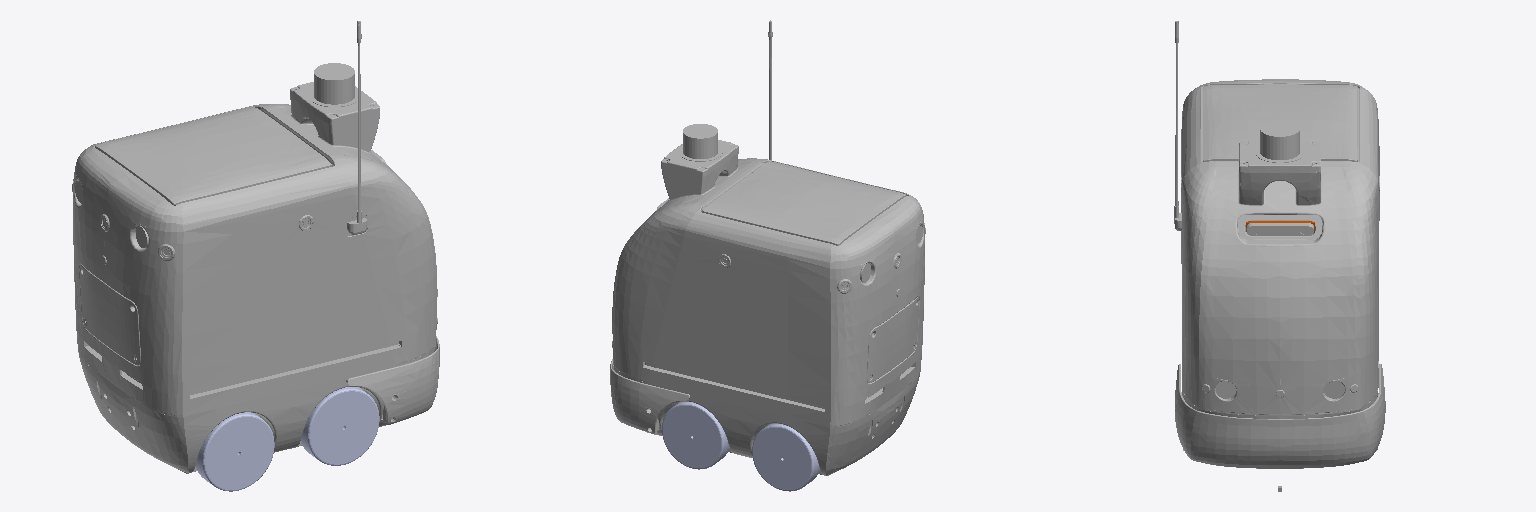
The robot description file, URDF, robot "TARS5_URDF":
<?xml version="1.0" encoding="utf-8"?>
<!-- This URDF was automatically created by SolidWorks to URDF Exporter! Originally created by [author] ([email redacted]) 
     Commit Version: 1.6.0-4-g7f85cfe  Build Version: 1.6.7995.38578
     For more information, please see http://wiki.ros.org/sw_urdf_exporter -->
<robot
  name="TARS5_URDF">
  <link
    name="base_link">
    <inertial>
      <origin
        xyz="-0.0319297701447891 7.49799744740876E-05 0.19294099047024"
        rpy="0 0 0" />
      <mass
        value="95" />
      <inertia
        ixx="2.79574737683864"
        ixy="-0.000333462074481655"
        ixz="0.248503881752532"
        iyy="4.97249537454924"
        iyz="-0.000247280056359223"
        izz="5.92933182619561" />
    </inertial>
    <visual>
      <origin
        xyz="0 0 0"
        rpy="0 0 0" />
      <geometry>
        <mesh
          filename="package://TARS5_URDF/meshes/base_link.STL" />
      </geometry>
      <material
        name="">
        <color
          rgba="0.752941176470588 0.752941176470588 0.752941176470588 1" />
      </material>
    </visual>
    <collision>
      <origin
        xyz="0 0 0"
        rpy="0 0 0" />
      <geometry>
        <mesh
          filename="package://TARS5_URDF/meshes/base_link.STL" />
      </geometry>
    </collision>
  </link>
  <link
    name="link_fl">
    <inertial>
      <origin
        xyz="0 -0.0275 0"
        rpy="0 0 0" />
      <mass
        value="1.80419482299145" />
      <inertia
        ixx="0.00518473415115212"
        ixy="-3.71331798375396E-20"
        ixz="5.43368413105831E-19"
        iyy="0.00946593125082104"
        iyz="-2.88567079174839E-18"
        izz="0.00518473415115212" />
    </inertial>
    <visual>
      <origin
        xyz="0 0 0"
        rpy="0 0 0" />
      <geometry>
        <mesh
          filename="package://TARS5_URDF/meshes/link_fl.STL" />
      </geometry>
      <material
        name="">
        <color
          rgba="0.792156862745098 0.819607843137255 0.933333333333333 1" />
      </material>
    </visual>
    <collision>
      <origin
        xyz="0 0 0"
        rpy="0 0 0" />
      <geometry>
        <mesh
          filename="package://TARS5_URDF/meshes/link_fl.STL" />
      </geometry>
    </collision>
  </link>
  <joint
    name="joint_fl"
    type="continuous">
    <origin
      xyz="0.15044 0.24755 0.055551"
      rpy="0 0 0" />
    <parent
      link="base_link" />
    <child
      link="link_fl" />
    <axis
      xyz="0 1 0" />
    <limit
      effort="1"
      velocity="1.5" />
  </joint>
  <link
    name="link_bl">
    <inertial>
      <origin
        xyz="0 -0.0275 0"
        rpy="0 0 0" />
      <mass
        value="1.80419482299145" />
      <inertia
        ixx="0.00518473415115212"
        ixy="-9.68146390037796E-20"
        ixz="7.44914140213389E-20"
        iyy="0.00946593125082104"
        iyz="-3.30697682152431E-18"
        izz="0.00518473415115212" />
    </inertial>
    <visual>
      <origin
        xyz="0 0 0"
        rpy="0 0 0" />
      <geometry>
        <mesh
          filename="package://TARS5_URDF/meshes/link_bl.STL" />
      </geometry>
      <material
        name="">
        <color
          rgba="0.792156862745098 0.819607843137255 0.933333333333333 1" />
      </material>
    </visual>
    <collision>
      <origin
        xyz="0 0 0"
        rpy="0 0 0" />
      <geometry>
        <mesh
          filename="package://TARS5_URDF/meshes/link_bl.STL" />
      </geometry>
    </collision>
  </link>
  <joint
    name="joingt_bl"
    type="continuous">
    <origin
      xyz="-0.14956 0.24755 0.055551"
      rpy="0 0 0" />
    <parent
      link="base_link" />
    <child
      link="link_bl" />
    <axis
      xyz="0 1 0" />
    <limit
      effort="1"
      velocity="1.5" />
  </joint>
  <link
    name="link_br">
    <inertial>
      <origin
        xyz="0 0.0275 0"
        rpy="0 0 0" />
      <mass
        value="1.80419482299145" />
      <inertia
        ixx="0.00518473415115212"
        ixy="3.91111150201269E-19"
        ixz="4.64489917458846E-19"
        iyy="0.00946593125082104"
        iyz="3.11347779802501E-18"
        izz="0.00518473415115212" />
    </inertial>
    <visual>
      <origin
        xyz="0 0 0"
        rpy="0 0 0" />
      <geometry>
        <mesh
          filename="package://TARS5_URDF/meshes/link_br.STL" />
      </geometry>
      <material
        name="">
        <color
          rgba="0.792156862745098 0.819607843137255 0.933333333333333 1" />
      </material>
    </visual>
    <collision>
      <origin
        xyz="0 0 0"
        rpy="0 0 0" />
      <geometry>
        <mesh
          filename="package://TARS5_URDF/meshes/link_br.STL" />
      </geometry>
    </collision>
  </link>
  <joint
    name="joint_br"
    type="continuous">
    <origin
      xyz="-0.14956 -0.24745 0.055551"
      rpy="0 0 0" />
    <parent
      link="base_link" />
    <child
      link="link_br" />
    <axis
      xyz="0 1 0" />
    <limit
      effort="1"
      velocity="1.5" />
  </joint>
  <link
    name="link_fr">
    <inertial>
      <origin
        xyz="0 0.0275 0"
        rpy="0 0 0" />
      <mass
        value="1.80419482299145" />
      <inertia
        ixx="0.00518473415115212"
        ixy="5.04117232506725E-19"
        ixz="5.47235241208503E-19"
        iyy="0.00946593125082104"
        iyz="2.51726763178231E-18"
        izz="0.00518473415115212" />
    </inertial>
    <visual>
      <origin
        xyz="0 0 0"
        rpy="0 0 0" />
      <geometry>
        <mesh
          filename="package://TARS5_URDF/meshes/link_fr.STL" />
      </geometry>
      <material
        name="">
        <color
          rgba="0.792156862745098 0.819607843137255 0.933333333333333 1" />
      </material>
    </visual>
    <collision>
      <origin
        xyz="0 0 0"
        rpy="0 0 0" />
      <geometry>
        <mesh
          filename="package://TARS5_URDF/meshes/link_fr.STL" />
      </geometry>
    </collision>
  </link>
  <joint
    name="joint_fr"
    type="continuous">
    <origin
      xyz="0.15044 -0.24745 0.055551"
      rpy="0 0 0" />
    <parent
      link="base_link" />
    <child
      link="link_fr" />
    <axis
      xyz="0 1 0" />
    <limit
      effort="1"
      velocity="1.5" />
  </joint>


 <!--Skid Steer Plugin ..............................................-->

 <gazebo>
  <plugin name="skid_steer_drive_controller" filename="libgazebo_ros_skid_steer_drive.so">
    <updateRate>100.0</updateRate>
    <robotNamespace>/</robotNamespace>
    <leftFrontJoint>joint_fl</leftFrontJoint>
    <rightFrontJoint>joint_fr</rightFrontJoint>
    <leftRearJoint>joingt_bl</leftRearJoint>
    <rightRearJoint>joint_br</rightRearJoint>
    <wheelSeparation>0.495</wheelSeparation>
    <wheelDiameter>0.205</wheelDiameter>
    <robotBaseFrame>base_link</robotBaseFrame>
    <torque>20</torque>
    <commandTopic>cmd_vel</commandTopic>
    <odometryTopic>odom</odometryTopic>
    <odometryFrame>odom</odometryFrame>
    <broadcastTF>true</broadcastTF>
    <covariance_x>0.001</covariance_x> <!-- 0.0001 -->
    <covariance_y>0.001</covariance_y> <!-- 0.0001 -->
    <covariance_yaw>0.01</covariance_yaw> <!-- 0.01 -->
  </plugin>
</gazebo>

<!-- Depth camera plugin .................................................................................. -->
  <joint name="depth_camera_joint" type="fixed">
        <parent link="base_link"/>
        <child link="depth_camera_link"/>
        <origin xyz="0.32636 0 0.65905" rpy="0 0 0"/>
    </joint>

    <link name="depth_camera_link">
        <visual>
            <geometry>
                <box size="0.033 0.175 0.03"/>
                <material
                name="">
                <color
                rgba="0 0 0 1" />
               </material>
            </geometry>
        </visual>
    </link>


    <joint name="depth_camera_optical_joint" type="fixed">
        <parent link="depth_camera_link"/>
        <child link="depth_camera_link_optical"/>
        <origin xyz="0 0 0" rpy="-1.57079632679 0 -1.57079632679"/>
    </joint>

    <link name="depth_camera_link_optical"></link>



    <gazebo reference="depth_camera_link">
        <material>Gazebo/Red</material>
        
        <sensor name="camera" type="depth">
            <pose> 0 0 0 0 -1.57079632679 0 </pose>
            <visualize>true</visualize>
            <update_rate>30</update_rate>
            <camera>
                <horizontal_fov>1.57079632679</horizontal_fov>
                <image>
                    <format>R8G8B8</format>
                    <width>1920</width>
                    <height>1080</height>
                </image>
                <clip>
                    <near>0.5</near>
                    <far>25.0</far>
                </clip>
            </camera>
            <plugin name="camera_controller" filename="libDepthCameraPlugin.so">
            <CxPrime>0</CxPrime>
            <updateRate>30.0</updateRate>
            <cameraName>depth_cam1</cameraName>
            <frameName>depth_camera_link_optical</frameName>
            <hackBaseline>0.012</hackBaseline>
            <distortionK1>1.0</distortionK1>
            <distortionK2>1.0</distortionK2>
            <distortionK3>1.0</distortionK3>
            <distortionT1>1.0</distortionT1>
            <distortionT2>1.0</distortionT2>
          </plugin>
          <plugin name="kinect" filename="libgazebo_ros_openni_kinect.so">
              <CxPrime>0</CxPrime>
              <updateRate>30.0</updateRate>
              <imageTopicName>image_raw</imageTopicName>
              <pointCloudTopicName>points</pointCloudTopicName>
              <depthImageTopicName>image_depth</depthImageTopicName>
              <depthImageCameraInfoTopicName>depth_camera_info</depthImageCameraInfoTopicName>
              <pointCloudCutoff>0.001</pointCloudCutoff>
              <cameraName>kinect</cameraName>
              <frameName>depth_camera_link_optical</frameName>
              <distortionK1>0.00000001</distortionK1>
              <distortionK2>0.00000001</distortionK2>
              <distortionK3>0.00000001</distortionK3>
              <distortionT1>0.00000001</distortionT1>
              <distortionT2>0.00000001</distortionT2>
            </plugin>
        </sensor>
    </gazebo> 

<!--IR/SONAR Plugin ..............................................-->

<joint name="ir_front_joint" type="fixed">
    <axis xyz="0 1 0" />
    <origin rpy="0 0 0" xyz="0.5 0 0" />
    <parent link="base_link"/>
    <child link="base_ir_front"/>
</joint>
<link name="base_ir_front">
    <collision>
      <origin xyz="0 0 0" rpy="0 0 0"/>
      <geometry>
        <box size="0.01 0.01 0.01"/>
      </geometry>
    </collision>
    <visual>
      <origin xyz="0 0 0" rpy="0 0 0"/>
      <geometry>
        <box size="0.01 0.01 0.01"/>
      </geometry>
    </visual>
    <inertial>
      <mass value="1e-5" />
      <origin xyz="0 0 0" rpy="0 0 0"/>
      <inertia ixx="1e-6" ixy="0" ixz="0" iyy="1e-6" iyz="0"      izz="1e-6" />
    </inertial>
</link>

 <gazebo reference="base_ir_front">        
   <sensor type="ray" name="TeraRanger">
      <pose>0 0 0 0 0 0</pose>
      <visualize>true</visualize>
      <update_rate>50</update_rate>
      <ray>
         <scan>
            <horizontal>
               <samples>10</samples>
               <resolution>1</resolution> 
               <min_angle>-0.654498</min_angle>
               <max_angle>0.654498</max_angle>
            </horizontal>
            <vertical>
               <samples>1</samples>
               <resolution>1</resolution> 
               <min_angle>-0.654498</min_angle>
               <max_angle>0.654498</max_angle> 
            </vertical>
         </scan>
         <range>
            <min>0.2</min>
            <max>8</max>
            <resolution>0.02</resolution>
         </range>
      </ray>
      <plugin filename="libgazebo_ros_range.so" name="gazebo_ros_range">
         <gaussianNoise>0.005</gaussianNoise>
         <alwaysOn>true</alwaysOn>
         <updateRate>50</updateRate>
         <topicName>sensor/ir_front</topicName>
         <frameName>base_ir_front</frameName>
         <radiation>INFRARED</radiation>
         <fov>1.309</fov>
      </plugin>
   </sensor>  
   </gazebo>
    </robot>

--- Facts derived from the render (not from the file) ---
Views: 3 orthographic renders of the robot side by side, from view 1: azimuth 30°, elevation 25°; view 2: azimuth 150°, elevation 25°; view 3: azimuth 270°, elevation 25°.
Model TARS5_URDF with 8 links and 7 joints (4 continuous, 3 fixed), rooted at base_link, posed all joints at 0.
Links seen in each view (by area): view 1: base_link, link_br, link_fr; view 2: base_link, link_bl, link_fl; view 3: base_link.
Boxes of the visible links, box(x1,y1,x2,y2) form: base_link: box(72, 21, 439, 473); link_br: box(195, 412, 274, 491); link_fr: box(301, 387, 379, 465); base_link: box(610, 20, 925, 475); link_bl: box(752, 424, 819, 491); link_fl: box(662, 402, 729, 469); base_link: box(1174, 21, 1385, 468).
Size in the robot's own frame: 0.9005 by 0.5371 by 1.21 metres.
5 mesh visuals loaded from 5 distinct referenced files (5 binary STL).
